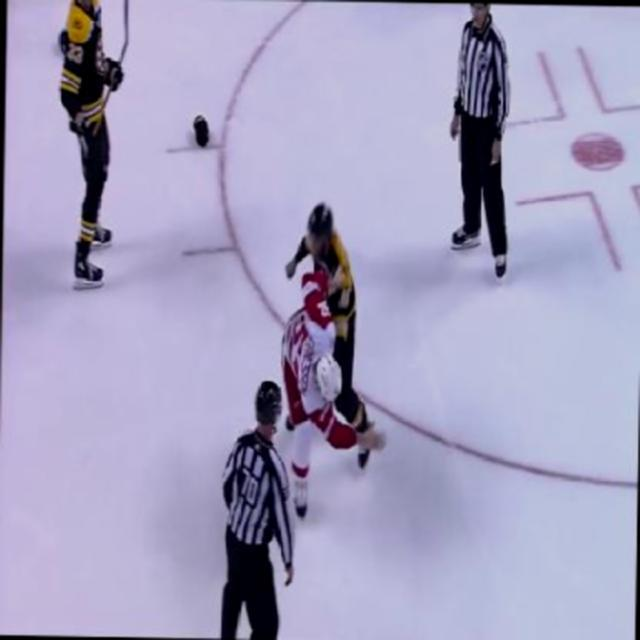fight: (277, 198, 385, 514)
non-fight: (54, 0, 128, 289), (216, 378, 296, 639), (442, 2, 515, 286)
